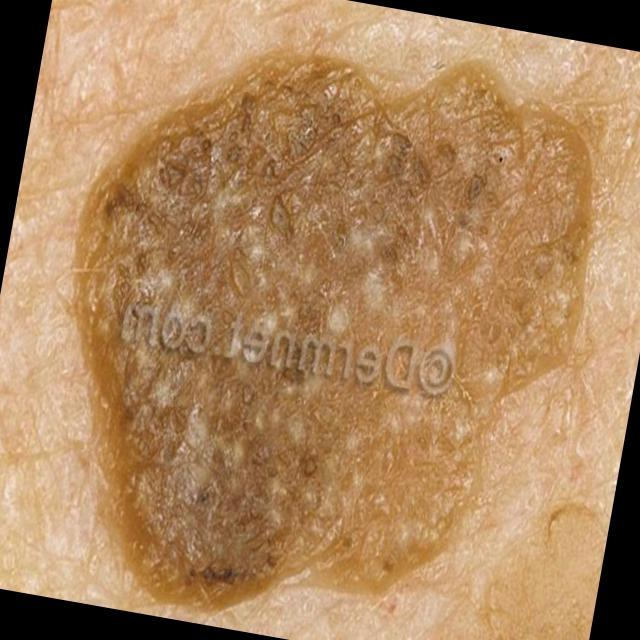Eczema: (42, 48, 594, 606)
